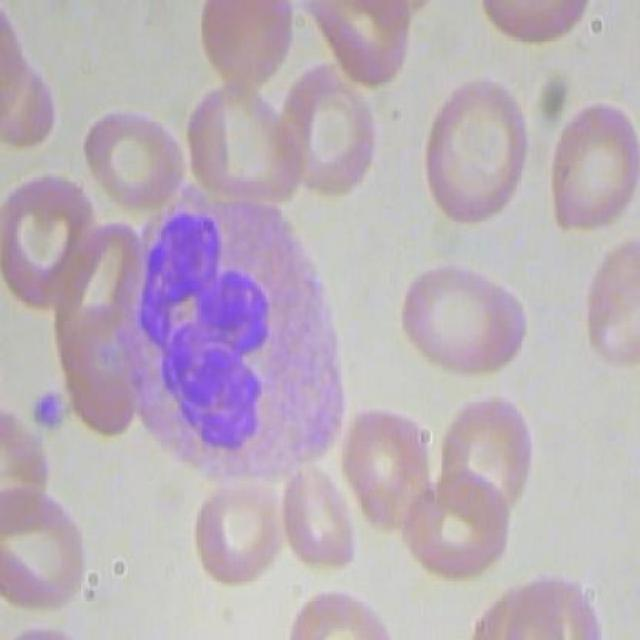Platelets: (24, 389, 71, 436)
RBC: (415, 70, 537, 224), (398, 261, 530, 376), (543, 81, 639, 237), (397, 458, 521, 577), (434, 395, 558, 513), (279, 58, 383, 196), (70, 95, 190, 210), (338, 408, 440, 543), (188, 473, 292, 596), (1, 485, 93, 624), (185, 1, 306, 94), (574, 238, 638, 384), (285, 464, 360, 579)
WBC: (115, 178, 363, 492)
